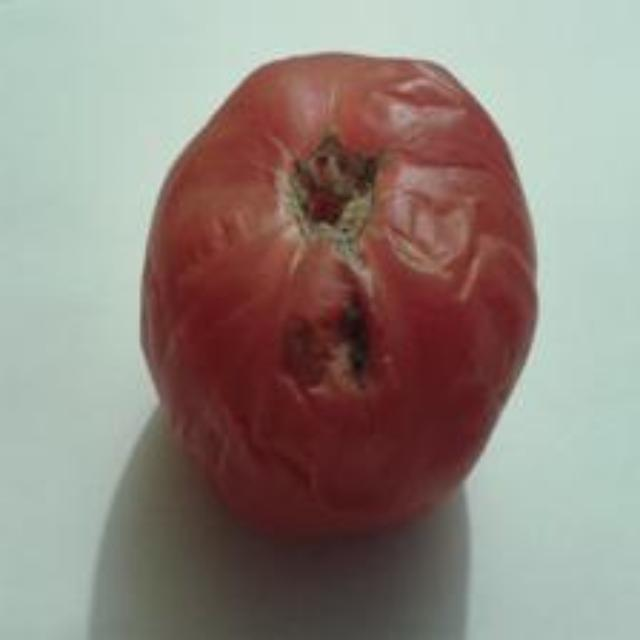defect: (138, 46, 546, 547)
